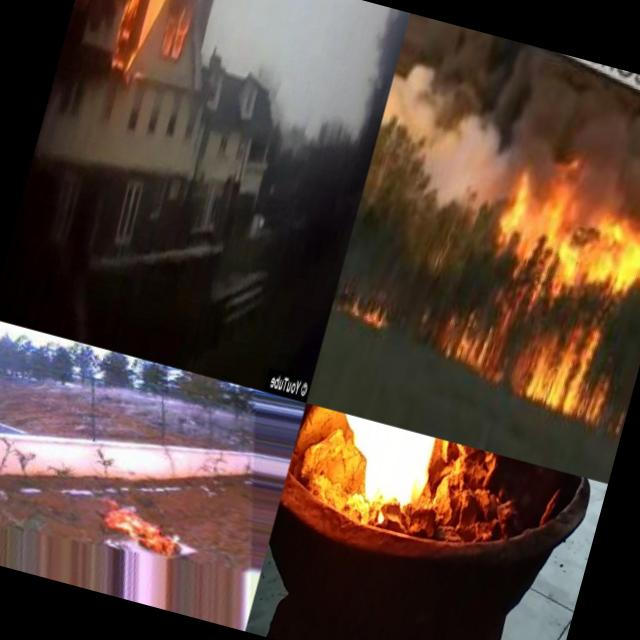fire: (483, 169, 640, 301), (286, 402, 454, 518), (522, 310, 632, 430), (59, 0, 206, 85), (88, 492, 201, 564), (446, 301, 514, 379), (335, 279, 398, 333)
smoke: (363, 42, 539, 224), (507, 91, 640, 214)
